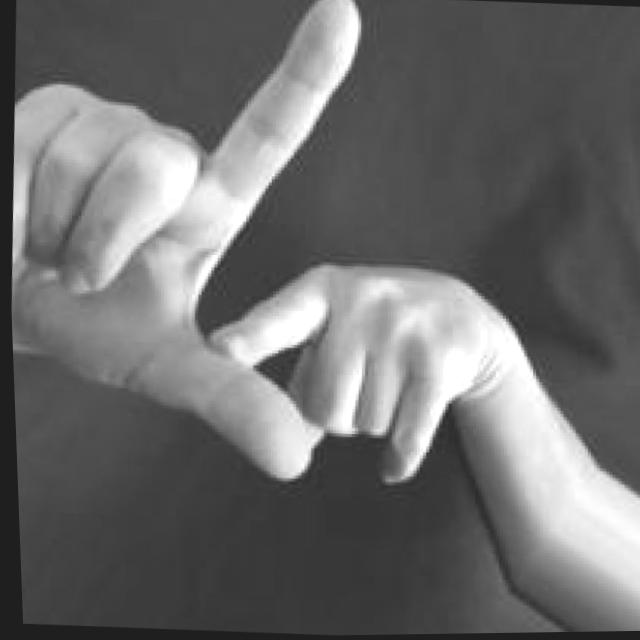J: (0, 0, 545, 503)
